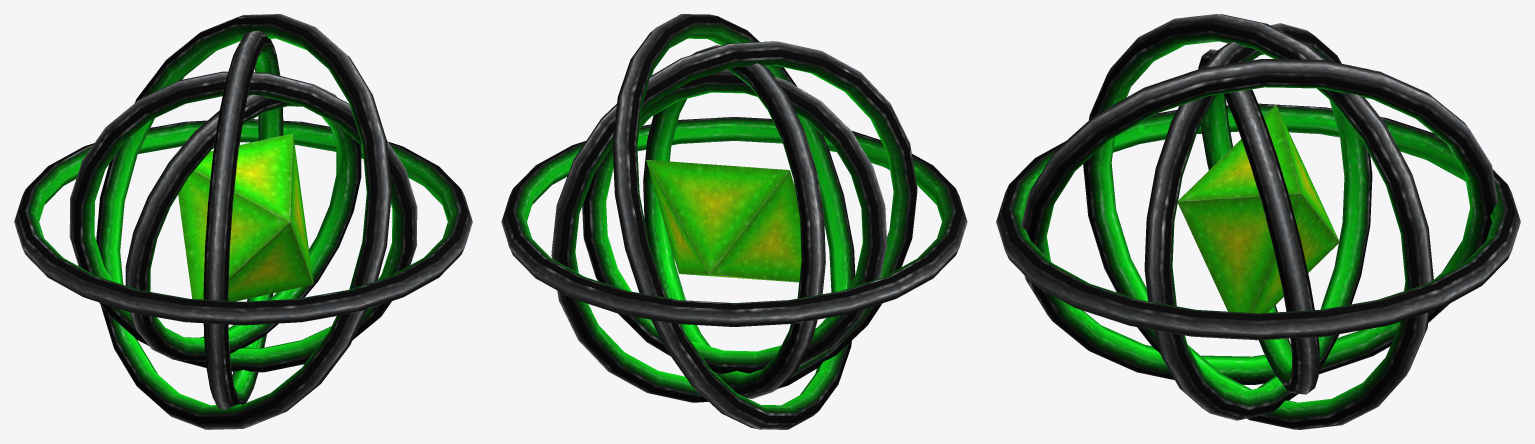
The model's file is Artifact08.FBX.
The picture shows the model from 3 angles, left to right: view 1: azimuth 30°, elevation 25°; view 2: azimuth 150°, elevation 25°; view 3: azimuth 270°, elevation 25°; orthographic projection. The views are drawn at different scales.
Visible parts, largest first — view 1: Artifact08; view 2: Artifact08; view 3: Artifact08.
Part boxes in pixels (x1=…): Artifact08: x1=14, y1=14, x2=472, y2=429; Artifact08: x1=501, y1=14, x2=967, y2=429; Artifact08: x1=996, y1=14, x2=1520, y2=429.
Size of the model in its own units: 31.04 by 26.14 by 31.04.
